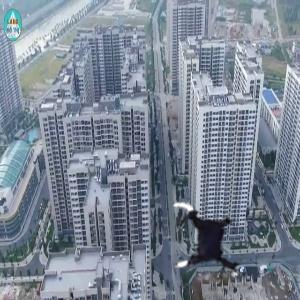drone: (152, 192, 255, 295)
